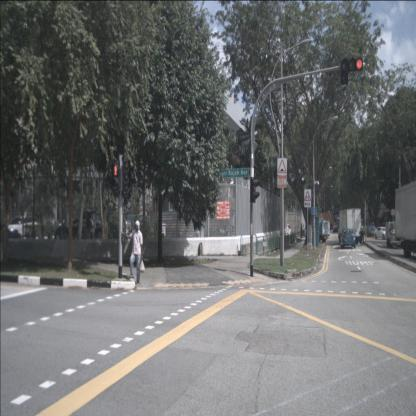human-pedestrian-adult: (121, 220, 145, 284), (300, 223, 303, 239)
vehicle-car: (54, 216, 96, 243), (98, 211, 134, 239), (5, 217, 40, 237), (340, 229, 356, 248), (374, 226, 390, 240), (366, 224, 376, 238), (333, 225, 338, 234)
vehicle-motorcycle: (359, 226, 365, 246)
vehicle-truck: (394, 181, 416, 258), (338, 208, 361, 244), (304, 220, 330, 242), (386, 221, 402, 249)
